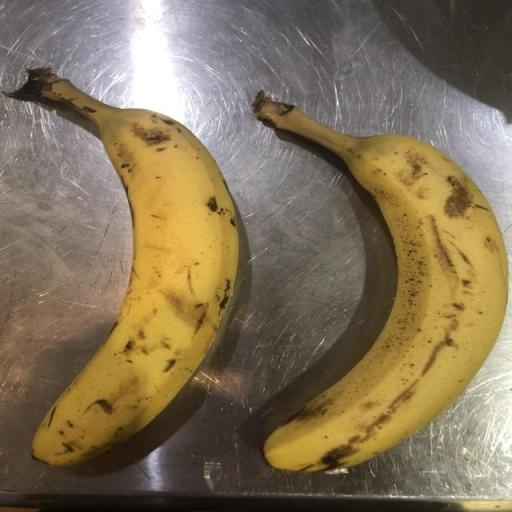fruit: (254, 92, 507, 471), (10, 69, 238, 464)
